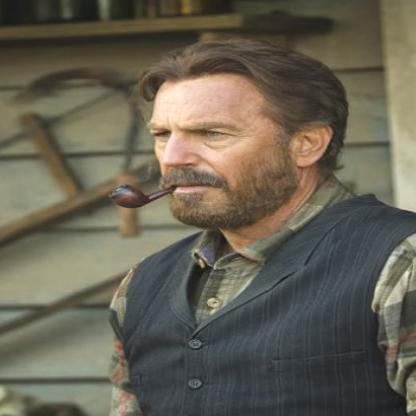person: (96, 40, 415, 416)
